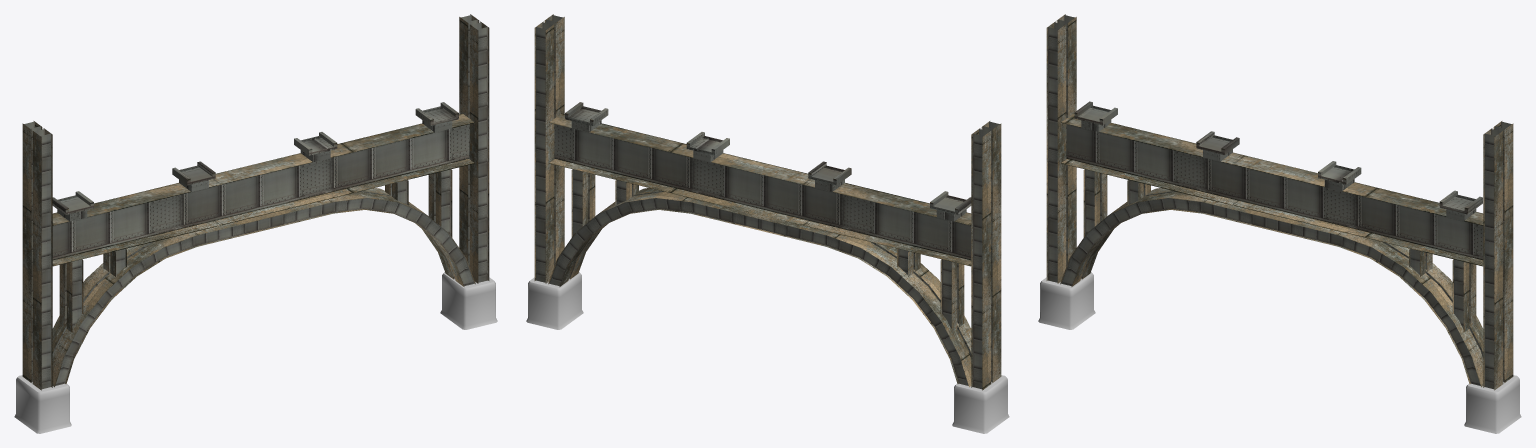
File: Bridge-Support-WideB.fbx
3 views of the same model, side by side, from view 1: azimuth 30°, elevation 25°; view 2: azimuth 150°, elevation 25°; view 3: azimuth 330°, elevation 25° (orthographic).
Parts seen in each view (by area): view 1: Bridge-Support-WideB; view 2: Bridge-Support-WideB; view 3: Bridge-Support-WideB.
Boxes of the visible parts, x1,y1,x2,y2 form: Bridge-Support-WideB: [14, 14, 497, 433]; Bridge-Support-WideB: [526, 14, 1009, 433]; Bridge-Support-WideB: [1038, 14, 1521, 433].
Bounding box in the file's own units: 2111 × 1285 × 200.
